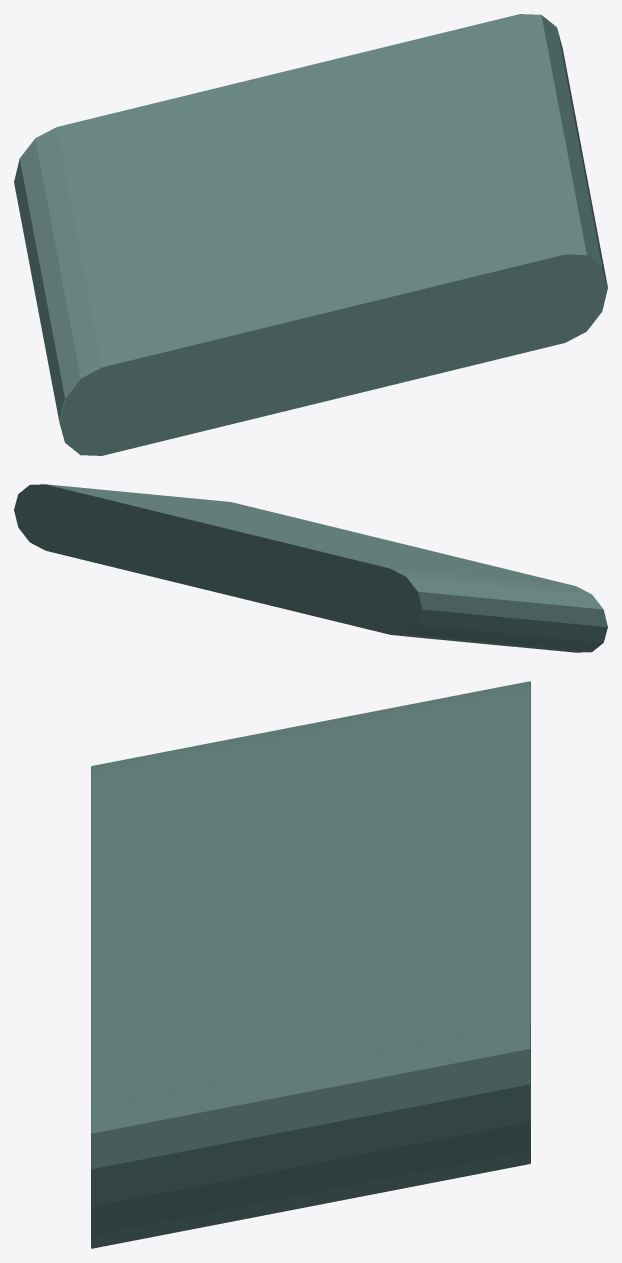
File: OneWay.gltf
3 renders of one model, top to bottom at view 1: azimuth 30°, elevation 25°; view 2: azimuth 150°, elevation 25°; view 3: azimuth 270°, elevation 25°, orthographic. The views are drawn at different scales.
Parts seen in each view (by area): view 1: OneWay_baked; view 2: OneWay_baked; view 3: OneWay_baked.
Part boxes in pixels (x1=…): OneWay_baked: x1=14, y1=14, x2=607, y2=455; OneWay_baked: x1=14, y1=484, x2=607, y2=652; OneWay_baked: x1=91, y1=681, x2=530, y2=1248.
Bounding box in the file's own units: 1.07 × 0.3074 × 0.42.
